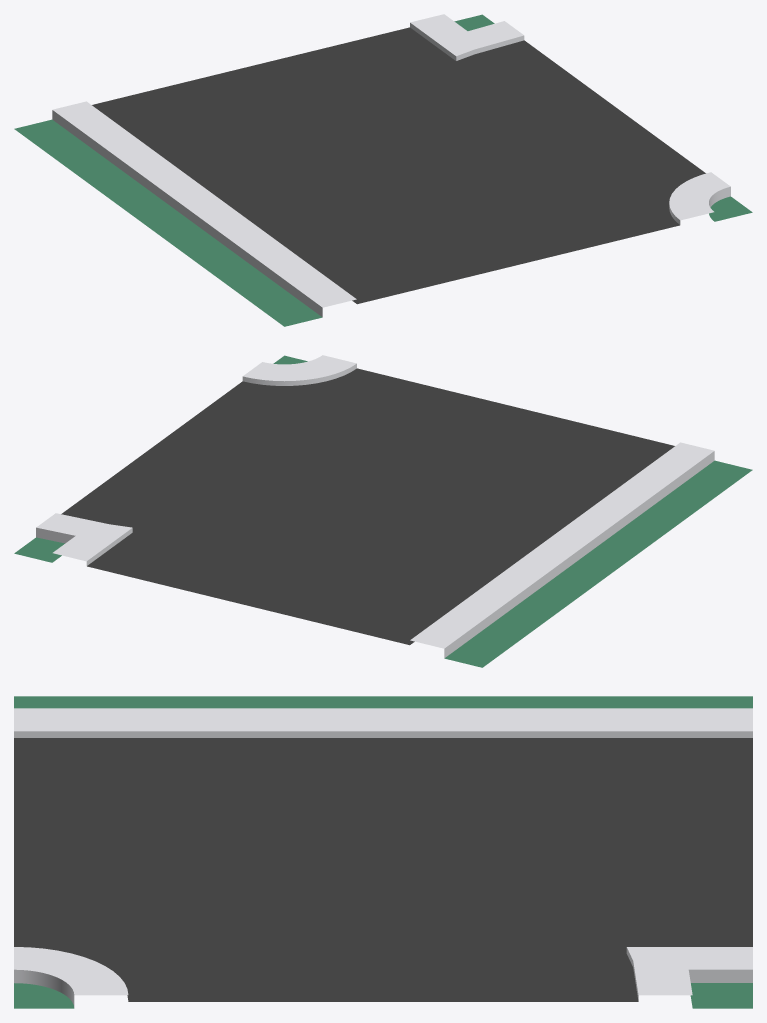
File: roadSplitSmall.glb
3 views of the same model, one above another, from view 1: azimuth 30°, elevation 25°; view 2: azimuth 150°, elevation 25°; view 3: azimuth 270°, elevation 25° (orthographic). The views are drawn at different scales.
Parts seen in each view (by area): view 1: roadSplitSmall(Clone); view 2: roadSplitSmall(Clone); view 3: roadSplitSmall(Clone).
Boxes of the visible parts, left/top/right/bottom form: roadSplitSmall(Clone): left=14, top=14, right=752, bottom=326; roadSplitSmall(Clone): left=14, top=355, right=752, bottom=667; roadSplitSmall(Clone): left=14, top=696, right=752, bottom=1008.
Bounding box in the file's own units: 1 × 0.02 × 1.
